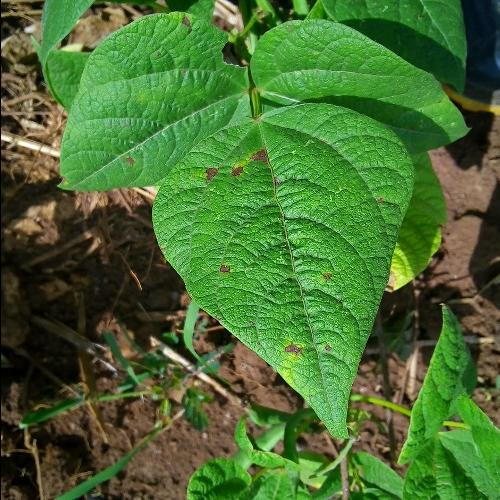hawar: (198, 146, 270, 190), (112, 147, 145, 173), (273, 340, 307, 364), (209, 260, 240, 283), (315, 272, 339, 291), (176, 16, 194, 38), (316, 342, 332, 362)
sehat: (268, 50, 388, 103), (129, 71, 202, 128)
